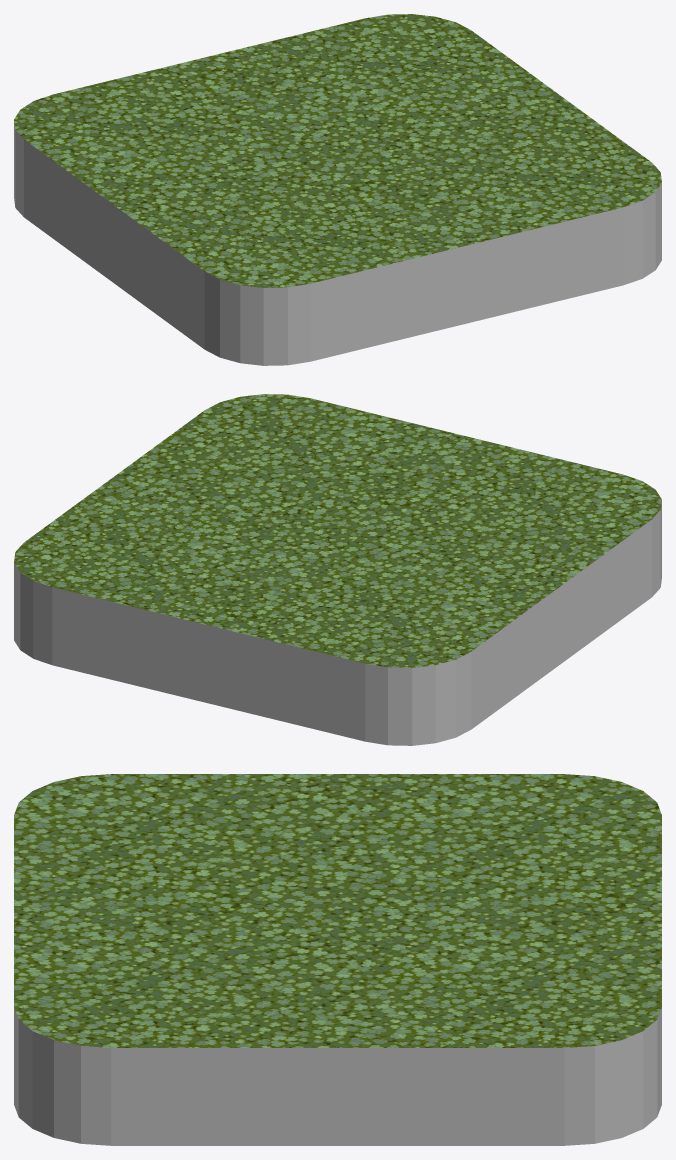
Rendered from clover_small.fbx.
3 renders of one model, top to bottom at view 1: azimuth 30°, elevation 25°; view 2: azimuth 150°, elevation 25°; view 3: azimuth 270°, elevation 25°, orthographic. The views are drawn at different scales.
Parts seen in each view (by area): view 1: clover_small; view 2: clover_small; view 3: clover_small.
Part boxes in pixels (x1,y1,x2,y2): clover_small: (14, 14, 661, 365); clover_small: (14, 394, 661, 745); clover_small: (14, 774, 661, 1145).
Bounding box in the file's own units: 600 × 100 × 600.
